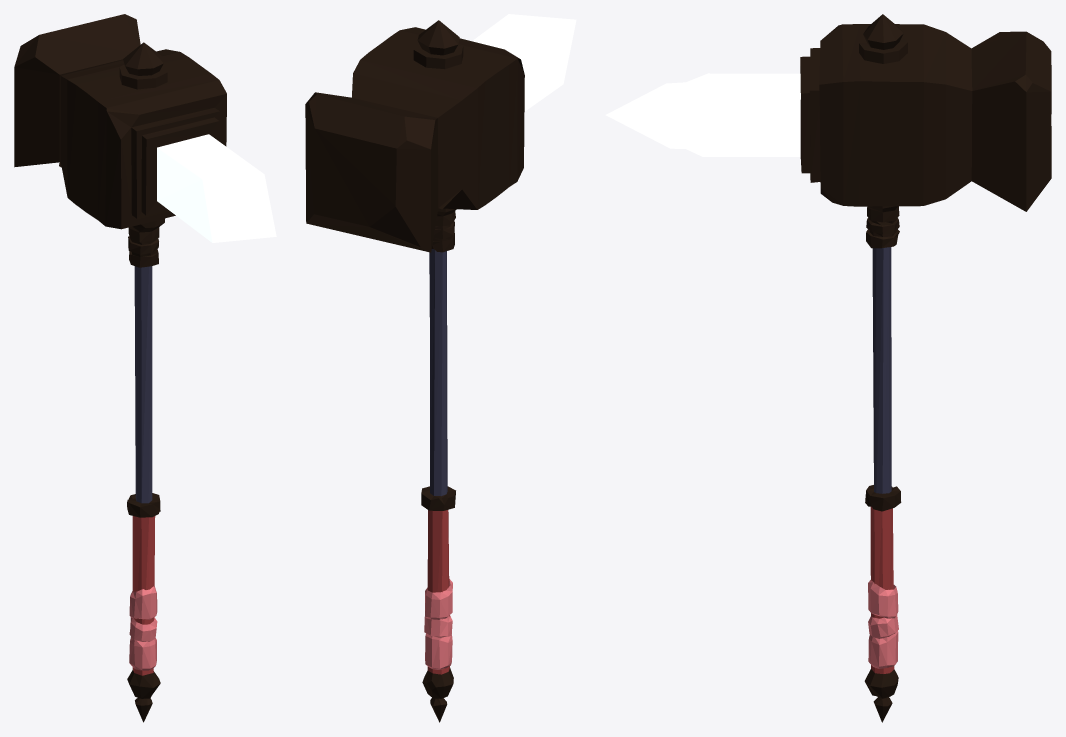
File: SFFA_Weapon_Hammer_Runical_001.fbx
3 views of the same model, side by side, from view 1: azimuth 30°, elevation 25°; view 2: azimuth 150°, elevation 25°; view 3: azimuth 270°, elevation 25° (orthographic). The views are drawn at different scales.
Visible parts, largest first — view 1: SFFA_Weapon_Hammer_Runical_001; view 2: SFFA_Weapon_Hammer_Runical_001; view 3: SFFA_Weapon_Hammer_Runical_001.
Part boxes in pixels (bbox=[...]): SFFA_Weapon_Hammer_Runical_001: bbox=[14, 14, 276, 722]; SFFA_Weapon_Hammer_Runical_001: bbox=[305, 14, 576, 722]; SFFA_Weapon_Hammer_Runical_001: bbox=[605, 14, 1051, 722].
Bounding box in the file's own units: 16.84 × 90.25 × 51.47.
